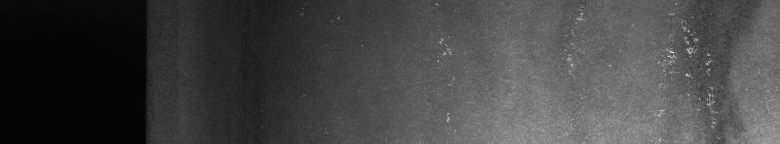hc: (655, 4, 723, 133)
